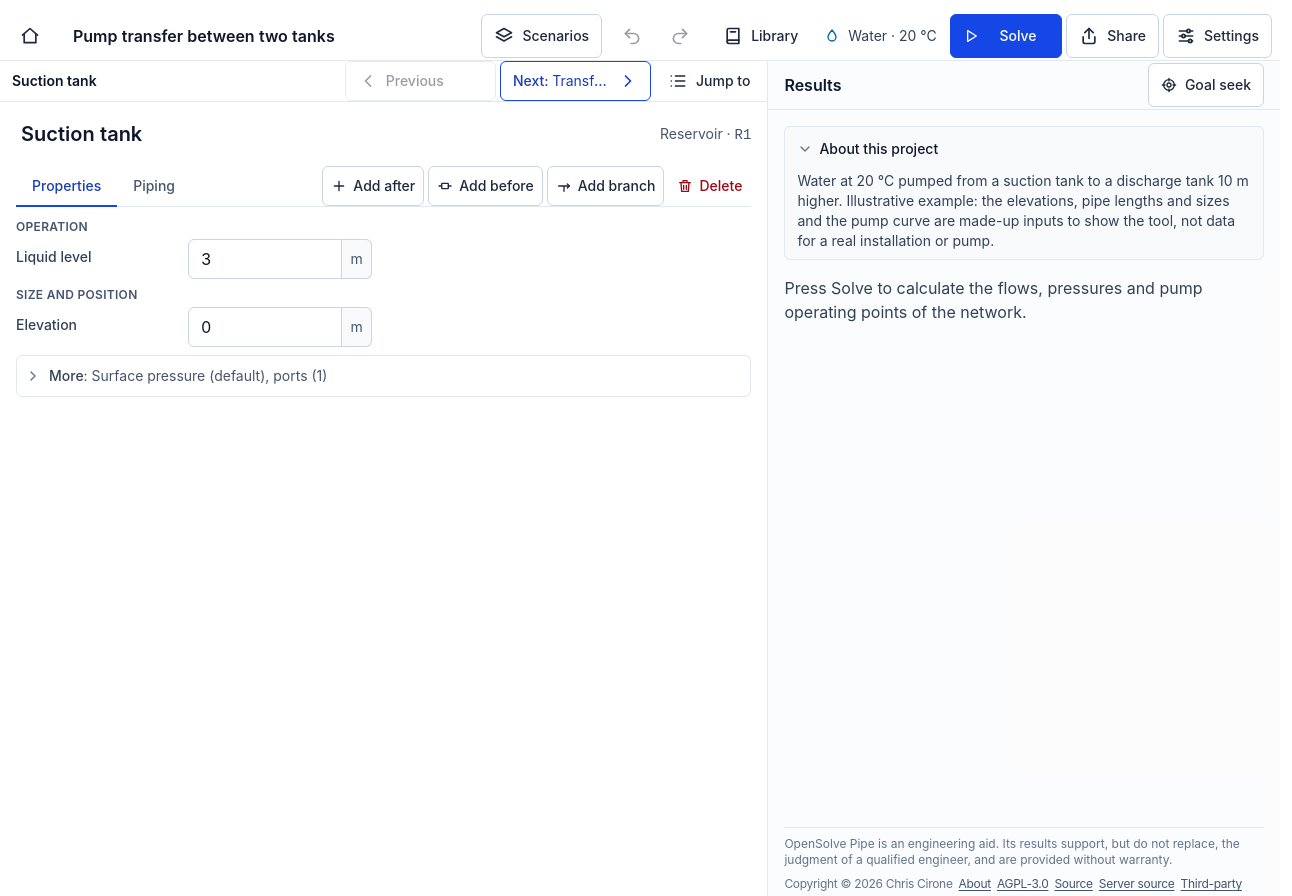
Scenario: after a reversal since the solve, the Results pane names a connection as solved › names a connection’s flag in the flags list as solved, as its pipe number is
Click the button "Solve".
click(1006, 36)  # box [950, 14, 1062, 58]
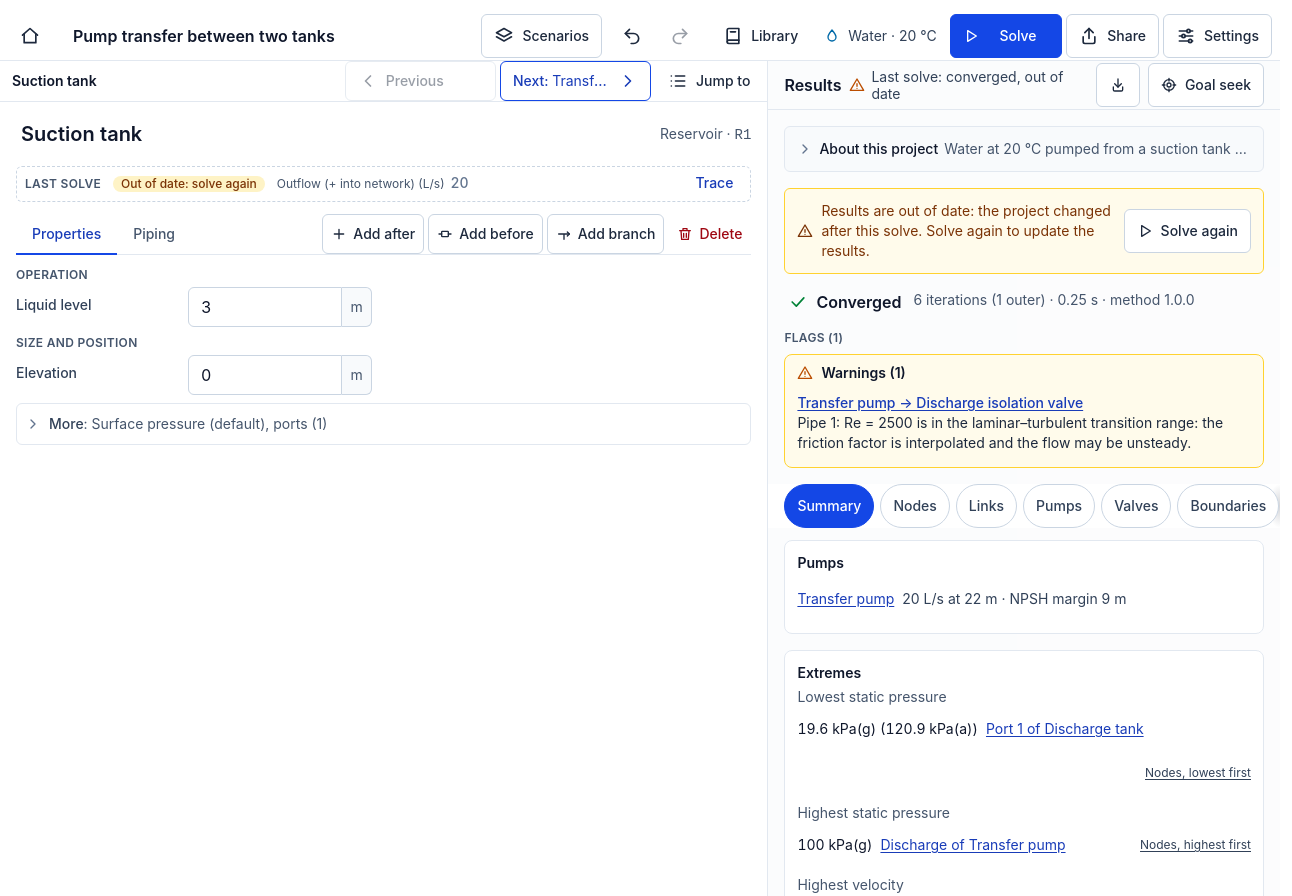
Expected: the button named "Show Transfer pump → Discharge isolation valve: Pipe 1: Re = 2500" is shown, [793, 387, 1255, 459]
